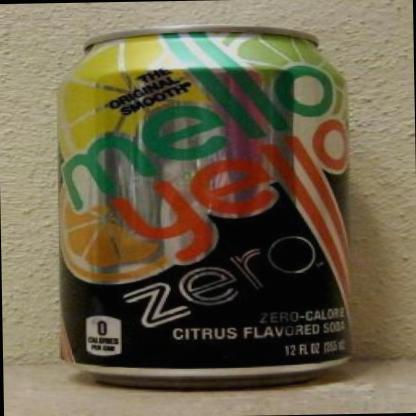alumunium_can: (53, 21, 356, 394)
